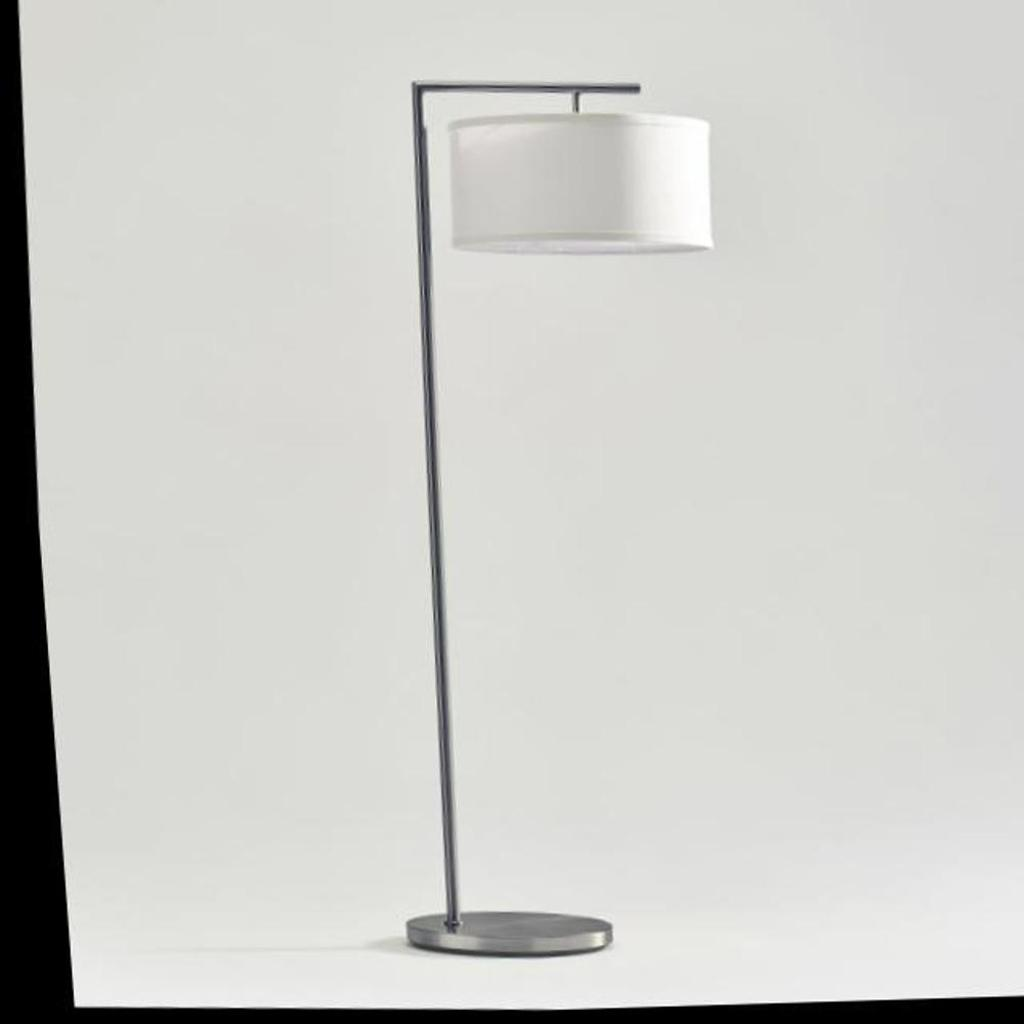shelf: (328, 58, 756, 987)
